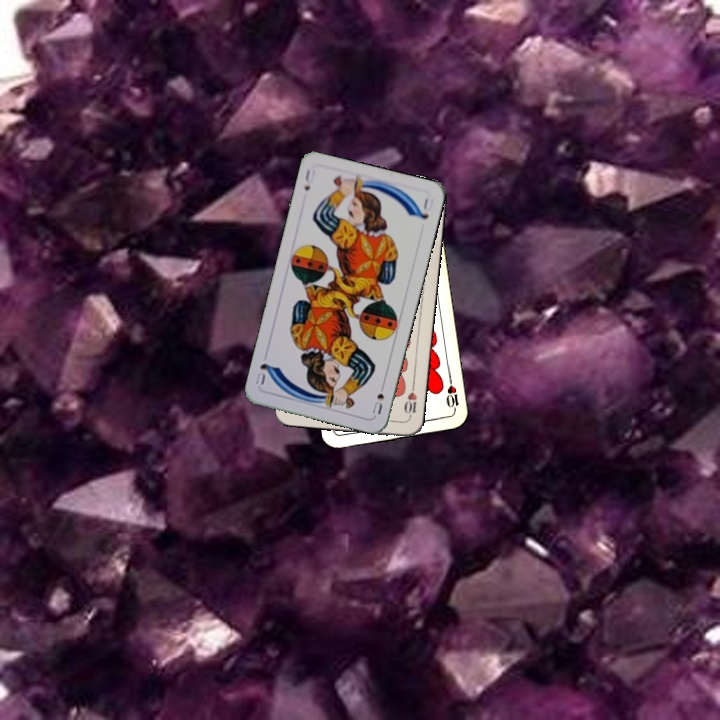H10: (442, 374, 462, 415), (400, 381, 419, 421)
SU: (368, 378, 388, 417), (300, 165, 318, 193)
